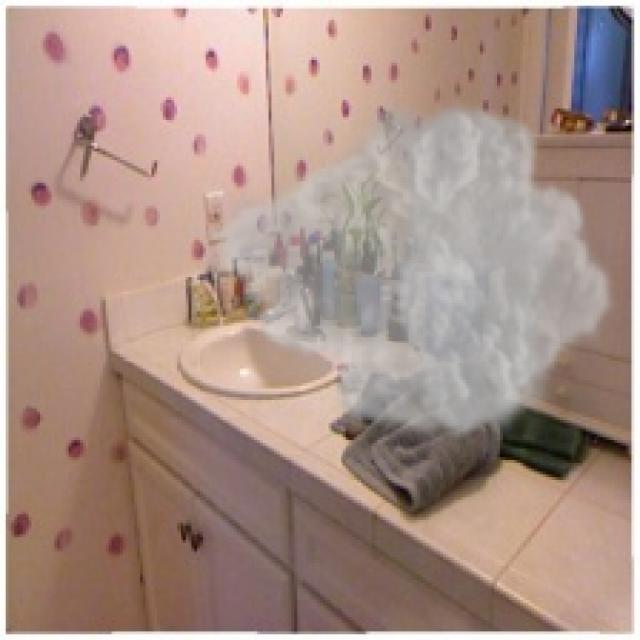smoke: (206, 94, 617, 446)
